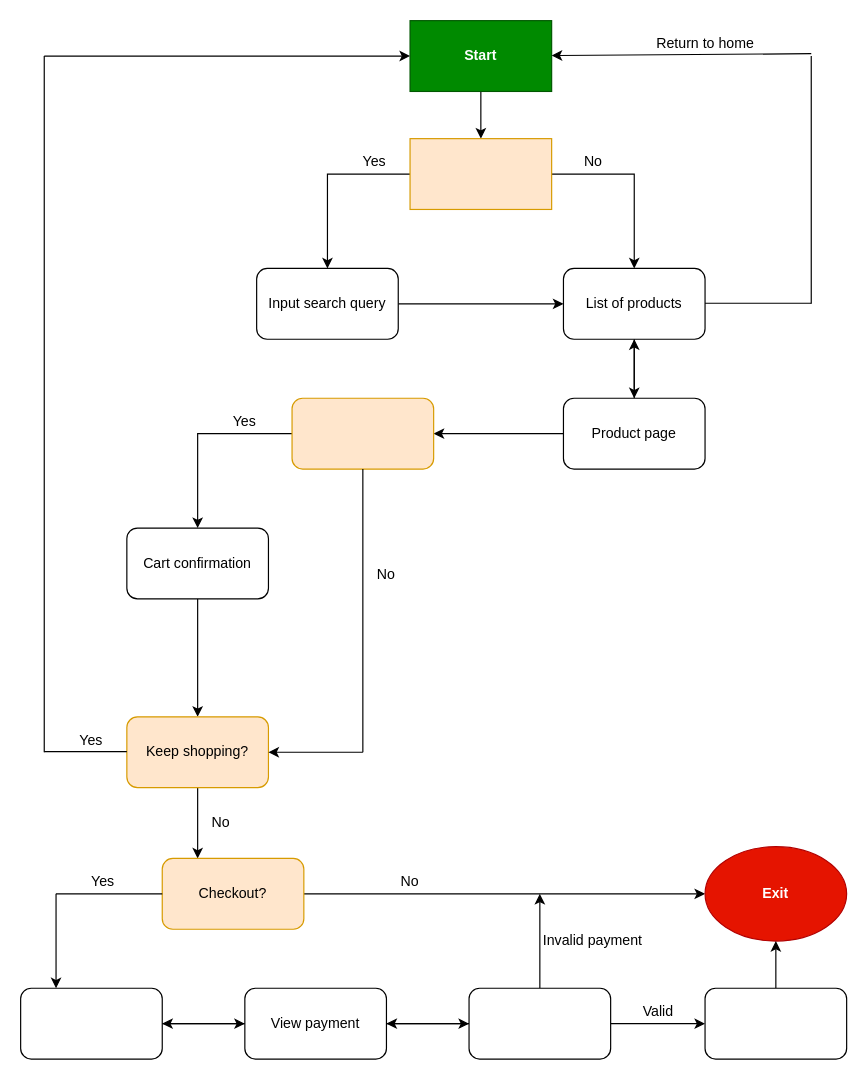
This 867x1080 diagram has some shape labels left out. The shapes that lost their labels are listed below. From the top down, each one's box as (x1, y1, x2, y2) in pixels, then its label:
(409, 137, 552, 209): Search for product
(291, 397, 434, 469): Add to cart
(19, 987, 162, 1059): View Cart
(468, 987, 611, 1059): Input payment
(704, 987, 847, 1059): Order confirmation
